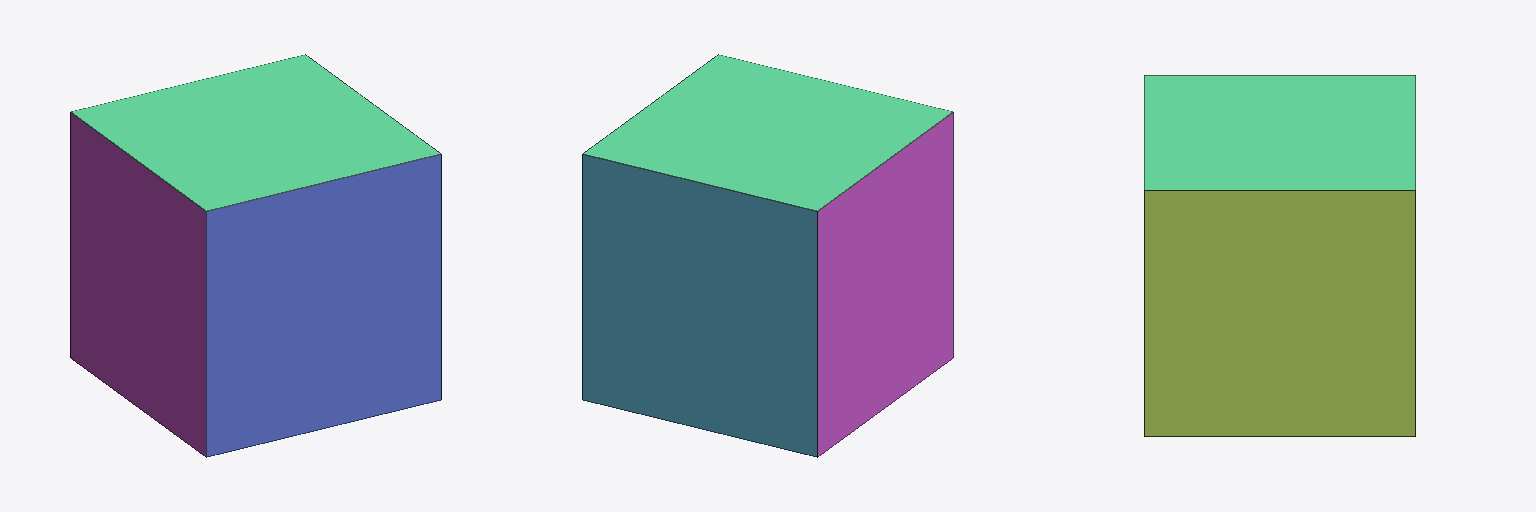
3 views of the same model, side by side, from view 1: azimuth 30°, elevation 25°; view 2: azimuth 150°, elevation 25°; view 3: azimuth 270°, elevation 25° (orthographic).
Parts seen in each view (by area): view 1: Cube; view 2: Cube; view 3: Cube.
Boxes of the visible parts, x1,y1,x2,y2 form: Cube: [70, 54, 441, 457]; Cube: [582, 54, 953, 457]; Cube: [1144, 75, 1415, 436].
Size of the model in its own units: 2 by 2 by 2.
1 materials, 1 textured.